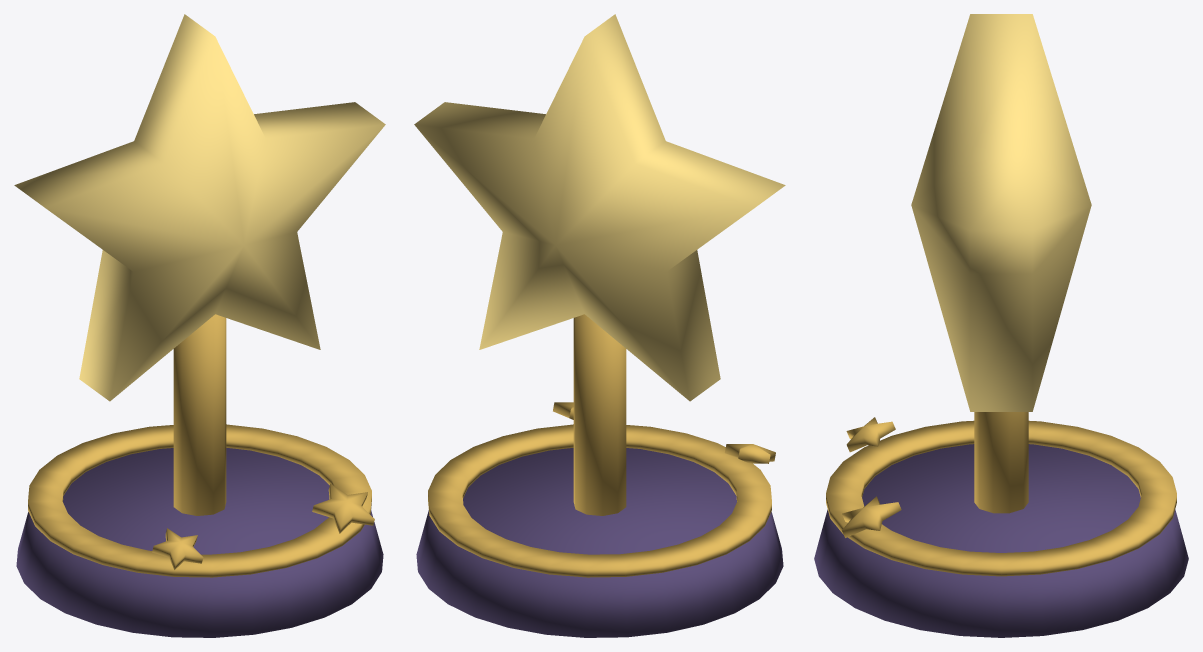
The model's file is glow-star-lamp.glb.
3 renders of one model, left to right at view 1: azimuth 30°, elevation 25°; view 2: azimuth 150°, elevation 25°; view 3: azimuth 270°, elevation 25°, orthographic.
Parts seen in each view (by area): view 1: lamp; view 2: lamp; view 3: lamp.
Boxes of the visible parts, left/top/right/bottom form: lamp: left=14, top=14, right=385, bottom=637; lamp: left=414, top=14, right=785, bottom=637; lamp: left=814, top=14, right=1188, bottom=637.
Bounding box in the file's own units: 0.5136 × 0.77 × 0.48.
